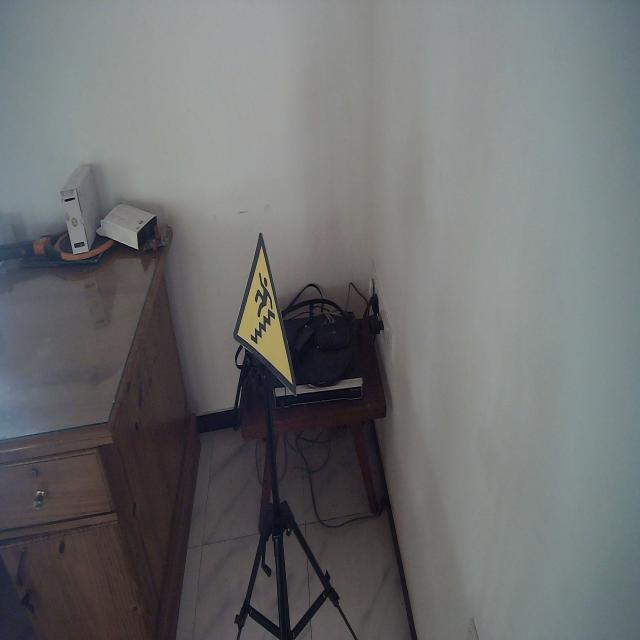stairs: (232, 230, 298, 399)
